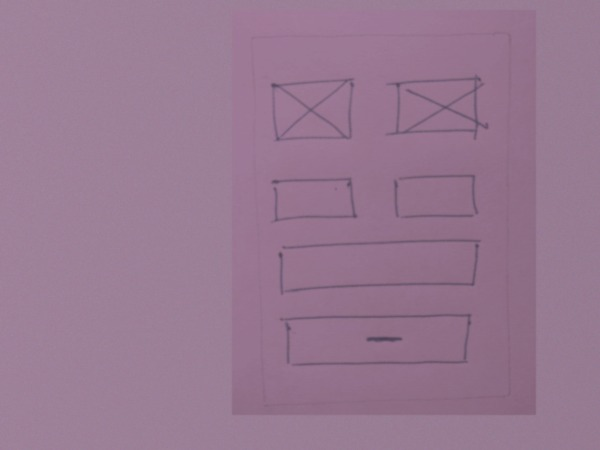button: (277, 313, 476, 369)
image: (383, 72, 494, 146), (268, 74, 357, 147)
text_input: (273, 237, 491, 298), (386, 170, 486, 224), (266, 174, 360, 226)
